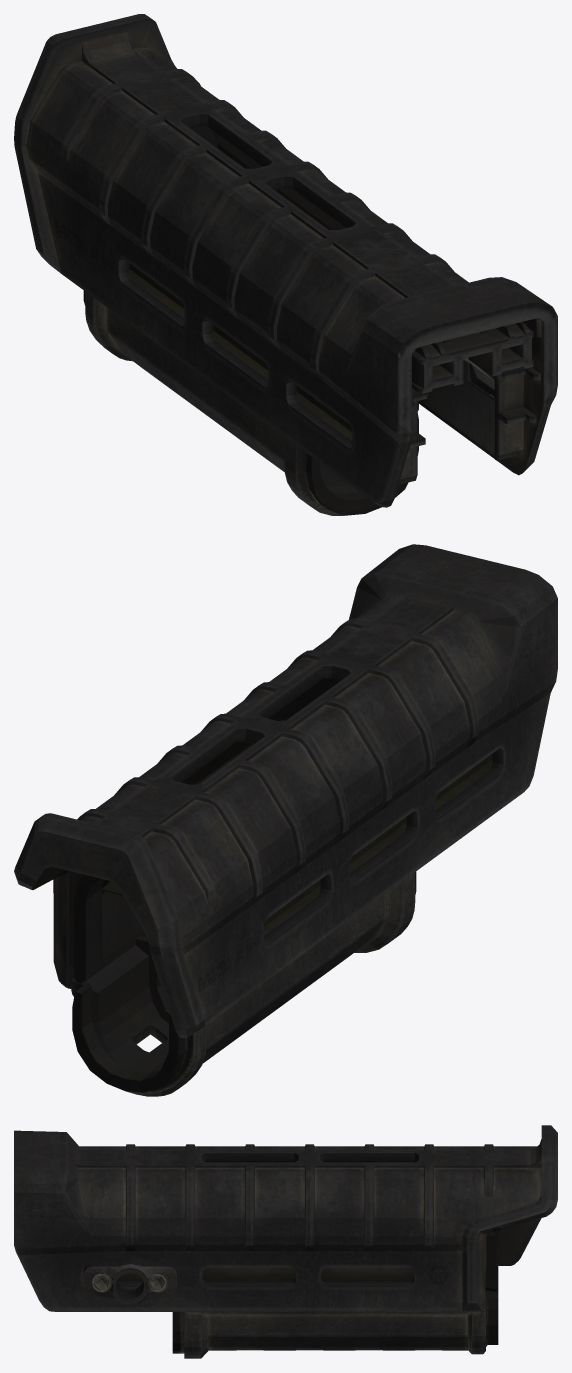
The picture shows the model from 3 angles, top to bottom: view 1: azimuth 30°, elevation 25°; view 2: azimuth 150°, elevation 25°; view 3: azimuth 270°, elevation 25°; orthographic projection. The views are drawn at different scales.
Visible parts, largest first — view 1: TW_57cff947245977638e6f2a19_PZ_Import; view 2: TW_57cff947245977638e6f2a19_PZ_Import; view 3: TW_57cff947245977638e6f2a19_PZ_Import.
Part boxes in pixels (left/top/right/bottom): TW_57cff947245977638e6f2a19_PZ_Import: left=14, top=14, right=557, bottom=515; TW_57cff947245977638e6f2a19_PZ_Import: left=14, top=544, right=557, bottom=1096; TW_57cff947245977638e6f2a19_PZ_Import: left=14, top=1125, right=557, bottom=1358.
Size of the model in its own units: 0.0304 by 0.108 by 0.0465.
Materials: 1 (1 with a texture image).
